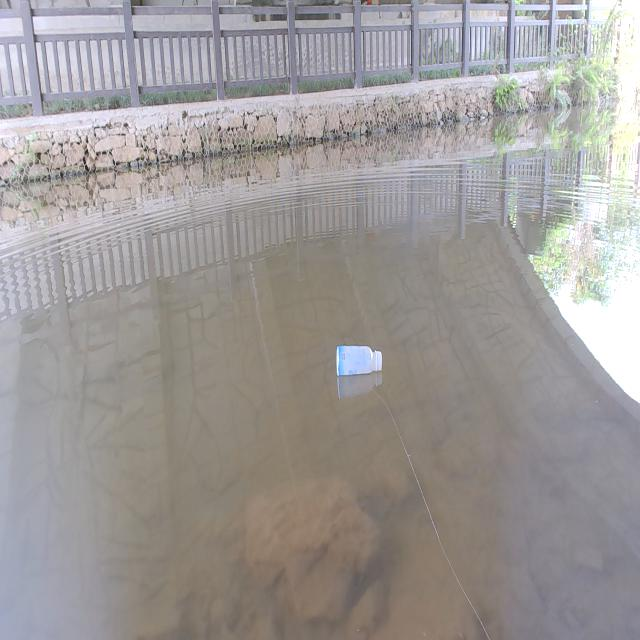bottle: (324, 328, 390, 392)
